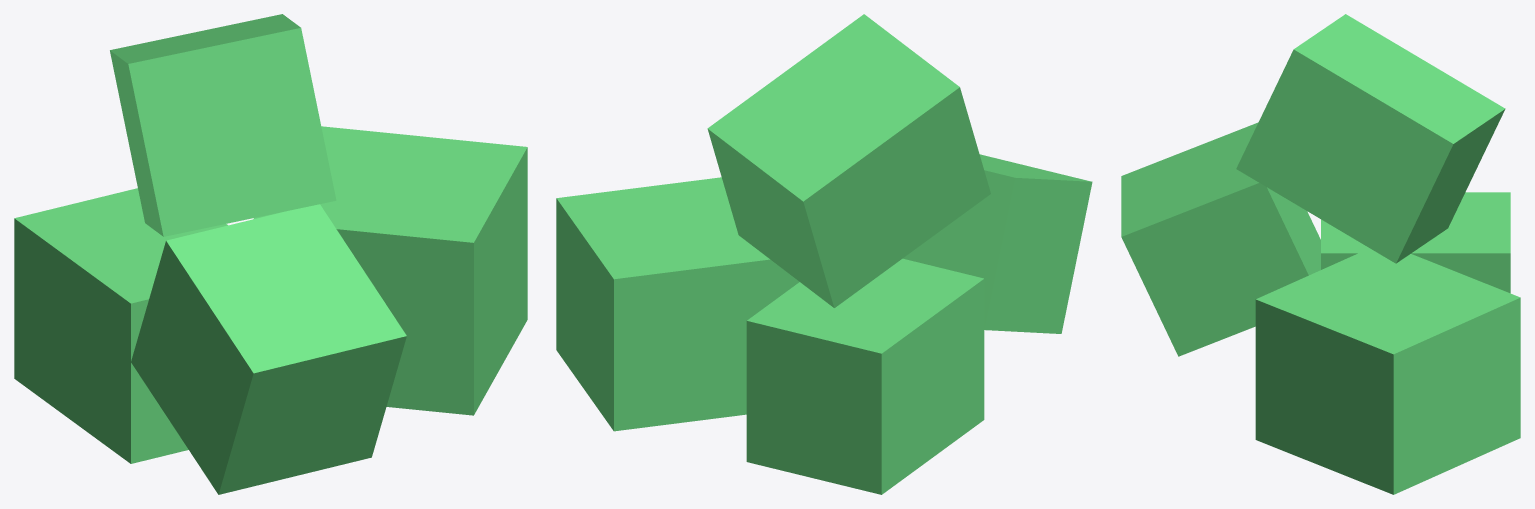
File: Cartons.fbx
3 views of the same model, side by side, from view 1: azimuth 30°, elevation 25°; view 2: azimuth 150°, elevation 25°; view 3: azimuth 270°, elevation 25° (orthographic). The views are drawn at different scales.
Parts seen in each view (by area): view 1: Cartons; view 2: Cartons; view 3: Cartons.
Boxes of the visible parts, x1,y1,x2,y2 form: Cartons: [14, 14, 527, 494]; Cartons: [556, 14, 1092, 494]; Cartons: [1121, 14, 1520, 494].
Size of the model in its own units: 85.02 by 75.67 by 81.89.
